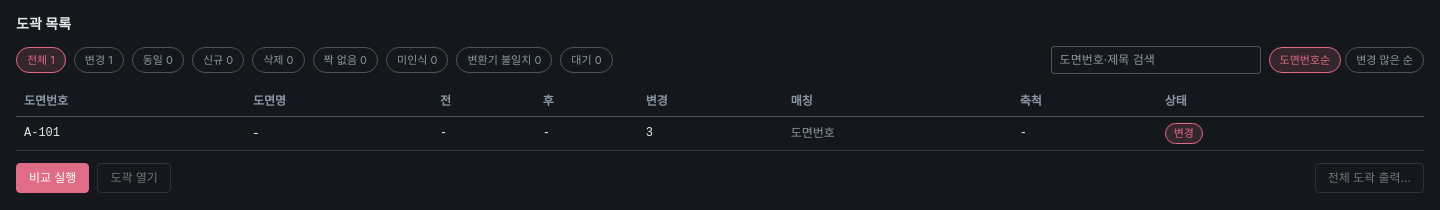
SheetListScreen › 도곽 열기/전체 도곽 출력 stay disabled until a comparable pair is selected / a compare has run
Expected: the button "도곽 열기" is disabled, [97,162,171,192]
Expected: the button "전체 도곽 출력…" is disabled, [1315,162,1424,192]
Click the text "A-101".
click(720, 133)  # box [16,116,1424,150]
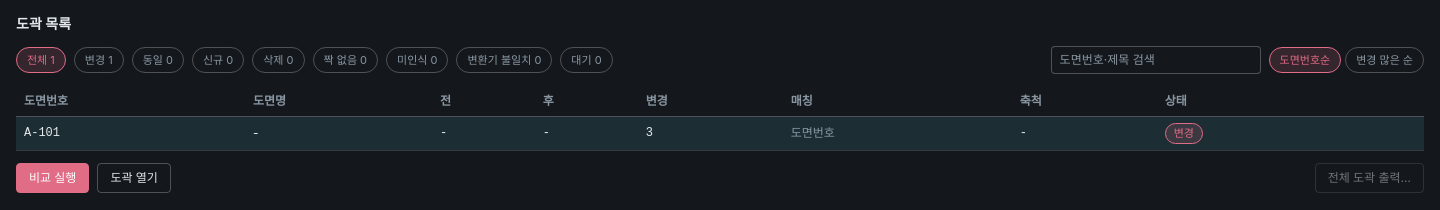
Now the button "도곽 열기" is enabled, box [97,162,171,192]
